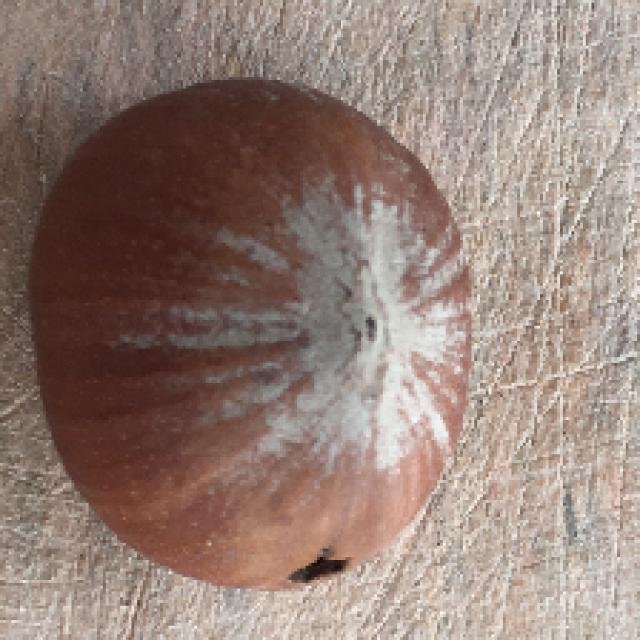damagedHazelnut: (35, 80, 475, 590)
